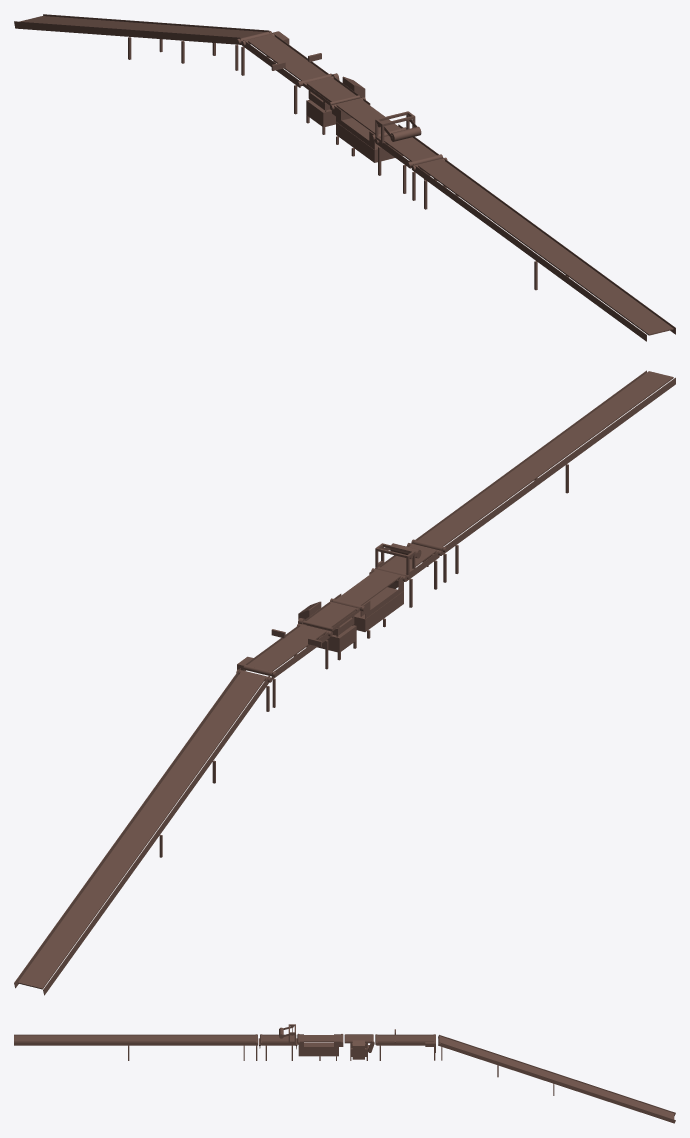
Rendered from GCC-AAV-13220-30.nwd(56).fbx.
3 views of the same model, one above another, from view 1: azimuth 30°, elevation 25°; view 2: azimuth 150°, elevation 25°; view 3: azimuth 270°, elevation 25° (orthographic). The views are drawn at different scales.
Parts seen in each view (by area): view 1: BOX 13 of SUBEQUIPMENT 50 of EQUIPMENT /721-U-301, BOX 13 of SUBEQUIPMENT 55 of EQUIPMENT /721-U-301, BOX 1 of SUBEQUIPMENT 50 of EQUIPMENT /721-U-301, BOX 1 of SUBEQUIPMENT 55 of EQUIPMENT /721-U-301, BOX 7 of SUBEQUIPMENT 54 of EQUIPMENT /721-U-301, BOX 4 of SUBEQUIPMENT /721-U-301-X-004, BOX 1 of SUBEQUIPMENT /721-U-301-X-004, BOX 2 of SUBEQUIPMENT 50 of EQUIPMENT /721-U-301, BOX 25 of SUBEQUIPMENT /721-U-301-X-015H, BOX 1 of SUBEQUIPMENT /721-U-301-X-005, BOX 9 of SUBEQUIPMENT /721-U-301-X-005, BOX 2 of SUBEQUIPMENT 55 of EQUIPMENT /721-U-301; view 2: BOX 13 of SUBEQUIPMENT 55 of EQUIPMENT /721-U-301, BOX 13 of SUBEQUIPMENT 50 of EQUIPMENT /721-U-301, BOX 1 of SUBEQUIPMENT 55 of EQUIPMENT /721-U-301, BOX 1 of SUBEQUIPMENT 50 of EQUIPMENT /721-U-301, BOX 7 of SUBEQUIPMENT 54 of EQUIPMENT /721-U-301, BOX 2 of SUBEQUIPMENT 55 of EQUIPMENT /721-U-301, BOX 1 of SUBEQUIPMENT /721-U-301-X-004, BOX 4 of SUBEQUIPMENT /721-U-301-X-004; view 3: BOX 13 of SUBEQUIPMENT 50 of EQUIPMENT /721-U-301, BOX 13 of SUBEQUIPMENT 55 of EQUIPMENT /721-U-301, BOX 2 of SUBEQUIPMENT 55 of EQUIPMENT /721-U-301, BOX 2 of SUBEQUIPMENT 50 of EQUIPMENT /721-U-301, BOX 1 of SUBEQUIPMENT 50 of EQUIPMENT /721-U-301, BOX 4 of SUBEQUIPMENT /721-U-301-X-004, BOX 1 of SUBEQUIPMENT 55 of EQUIPMENT /721-U-301, BOX 7 of SUBEQUIPMENT 54 of EQUIPMENT /721-U-301, BOX 1 of SUBEQUIPMENT /721-U-301-X-004, BOX 16 of SUBEQUIPMENT /721-U-301-X-005, BOX 3 of SUBEQUIPMENT /721-U-301-X-004, BOX 25 of SUBEQUIPMENT /721-U-301-X-015H (+1 smaller).
Boxes of the visible parts, x1,y1,x2,y2 form: BOX 13 of SUBEQUIPMENT 50 of EQUIPMENT /721-U-301: [417, 159, 673, 335]; BOX 13 of SUBEQUIPMENT 55 of EQUIPMENT /721-U-301: [20, 16, 265, 37]; BOX 1 of SUBEQUIPMENT 50 of EQUIPMENT /721-U-301: [413, 164, 646, 341]; BOX 1 of SUBEQUIPMENT 55 of EQUIPMENT /721-U-301: [14, 21, 241, 44]; BOX 7 of SUBEQUIPMENT 54 of EQUIPMENT /721-U-301: [247, 34, 326, 80]; BOX 4 of SUBEQUIPMENT /721-U-301-X-004: [336, 118, 402, 162]; BOX 1 of SUBEQUIPMENT /721-U-301-X-004: [336, 98, 400, 134]; BOX 2 of SUBEQUIPMENT 50 of EQUIPMENT /721-U-301: [442, 157, 675, 334]; BOX 25 of SUBEQUIPMENT /721-U-301-X-015H: [384, 136, 436, 161]; BOX 1 of SUBEQUIPMENT /721-U-301-X-005: [306, 77, 356, 101]; BOX 9 of SUBEQUIPMENT /721-U-301-X-005: [306, 100, 351, 127]; BOX 2 of SUBEQUIPMENT 55 of EQUIPMENT /721-U-301: [43, 14, 270, 33]; BOX 13 of SUBEQUIPMENT 55 of EQUIPMENT /721-U-301: [18, 671, 265, 989]; BOX 13 of SUBEQUIPMENT 50 of EQUIPMENT /721-U-301: [417, 371, 673, 546]; BOX 1 of SUBEQUIPMENT 55 of EQUIPMENT /721-U-301: [43, 675, 269, 995]; BOX 1 of SUBEQUIPMENT 50 of EQUIPMENT /721-U-301: [442, 377, 675, 554]; BOX 7 of SUBEQUIPMENT 54 of EQUIPMENT /721-U-301: [247, 624, 326, 671]; BOX 2 of SUBEQUIPMENT 55 of EQUIPMENT /721-U-301: [14, 668, 240, 988]; BOX 1 of SUBEQUIPMENT /721-U-301-X-004: [336, 569, 401, 605]; BOX 4 of SUBEQUIPMENT /721-U-301-X-004: [353, 587, 403, 631]; BOX 13 of SUBEQUIPMENT 50 of EQUIPMENT /721-U-301: [14, 1035, 256, 1041]; BOX 13 of SUBEQUIPMENT 55 of EQUIPMENT /721-U-301: [440, 1036, 674, 1119]; BOX 2 of SUBEQUIPMENT 55 of EQUIPMENT /721-U-301: [438, 1042, 675, 1123]; BOX 2 of SUBEQUIPMENT 50 of EQUIPMENT /721-U-301: [14, 1042, 257, 1045]; BOX 1 of SUBEQUIPMENT 50 of EQUIPMENT /721-U-301: [14, 1034, 257, 1035]; BOX 4 of SUBEQUIPMENT /721-U-301-X-004: [298, 1042, 338, 1056]; BOX 1 of SUBEQUIPMENT 55 of EQUIPMENT /721-U-301: [438, 1035, 675, 1115]; BOX 7 of SUBEQUIPMENT 54 of EQUIPMENT /721-U-301: [376, 1035, 434, 1041]; BOX 1 of SUBEQUIPMENT /721-U-301-X-004: [298, 1035, 341, 1041]; BOX 16 of SUBEQUIPMENT /721-U-301-X-005: [352, 1040, 364, 1059]; BOX 3 of SUBEQUIPMENT /721-U-301-X-004: [298, 1041, 343, 1049]; BOX 25 of SUBEQUIPMENT /721-U-301-X-015H: [261, 1035, 294, 1041].
Bounding box in the file's own units: 50.27 × 160 × 1052.
